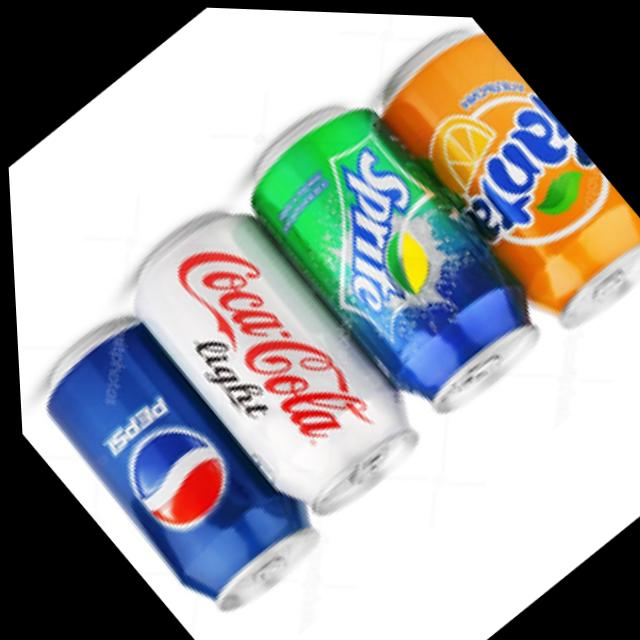aluminum_soda_cans: (206, 61, 566, 442), (94, 178, 433, 536), (13, 299, 332, 636), (356, 10, 640, 343)
